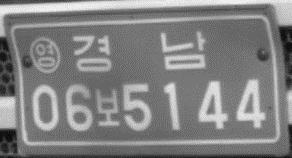0: (30, 83, 60, 132)
1: (160, 79, 186, 132)
4: (195, 78, 229, 130), (235, 77, 266, 130)
5: (121, 81, 153, 133)
6: (65, 81, 94, 133)
경남_D: (69, 29, 208, 73)
보: (94, 86, 122, 128)
영: (29, 36, 62, 73)
